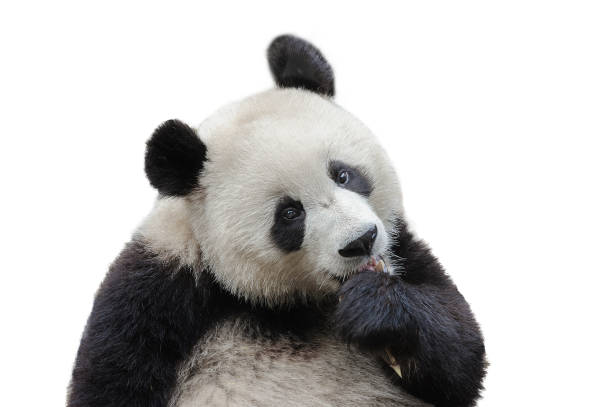panda: (93, 22, 430, 330)
